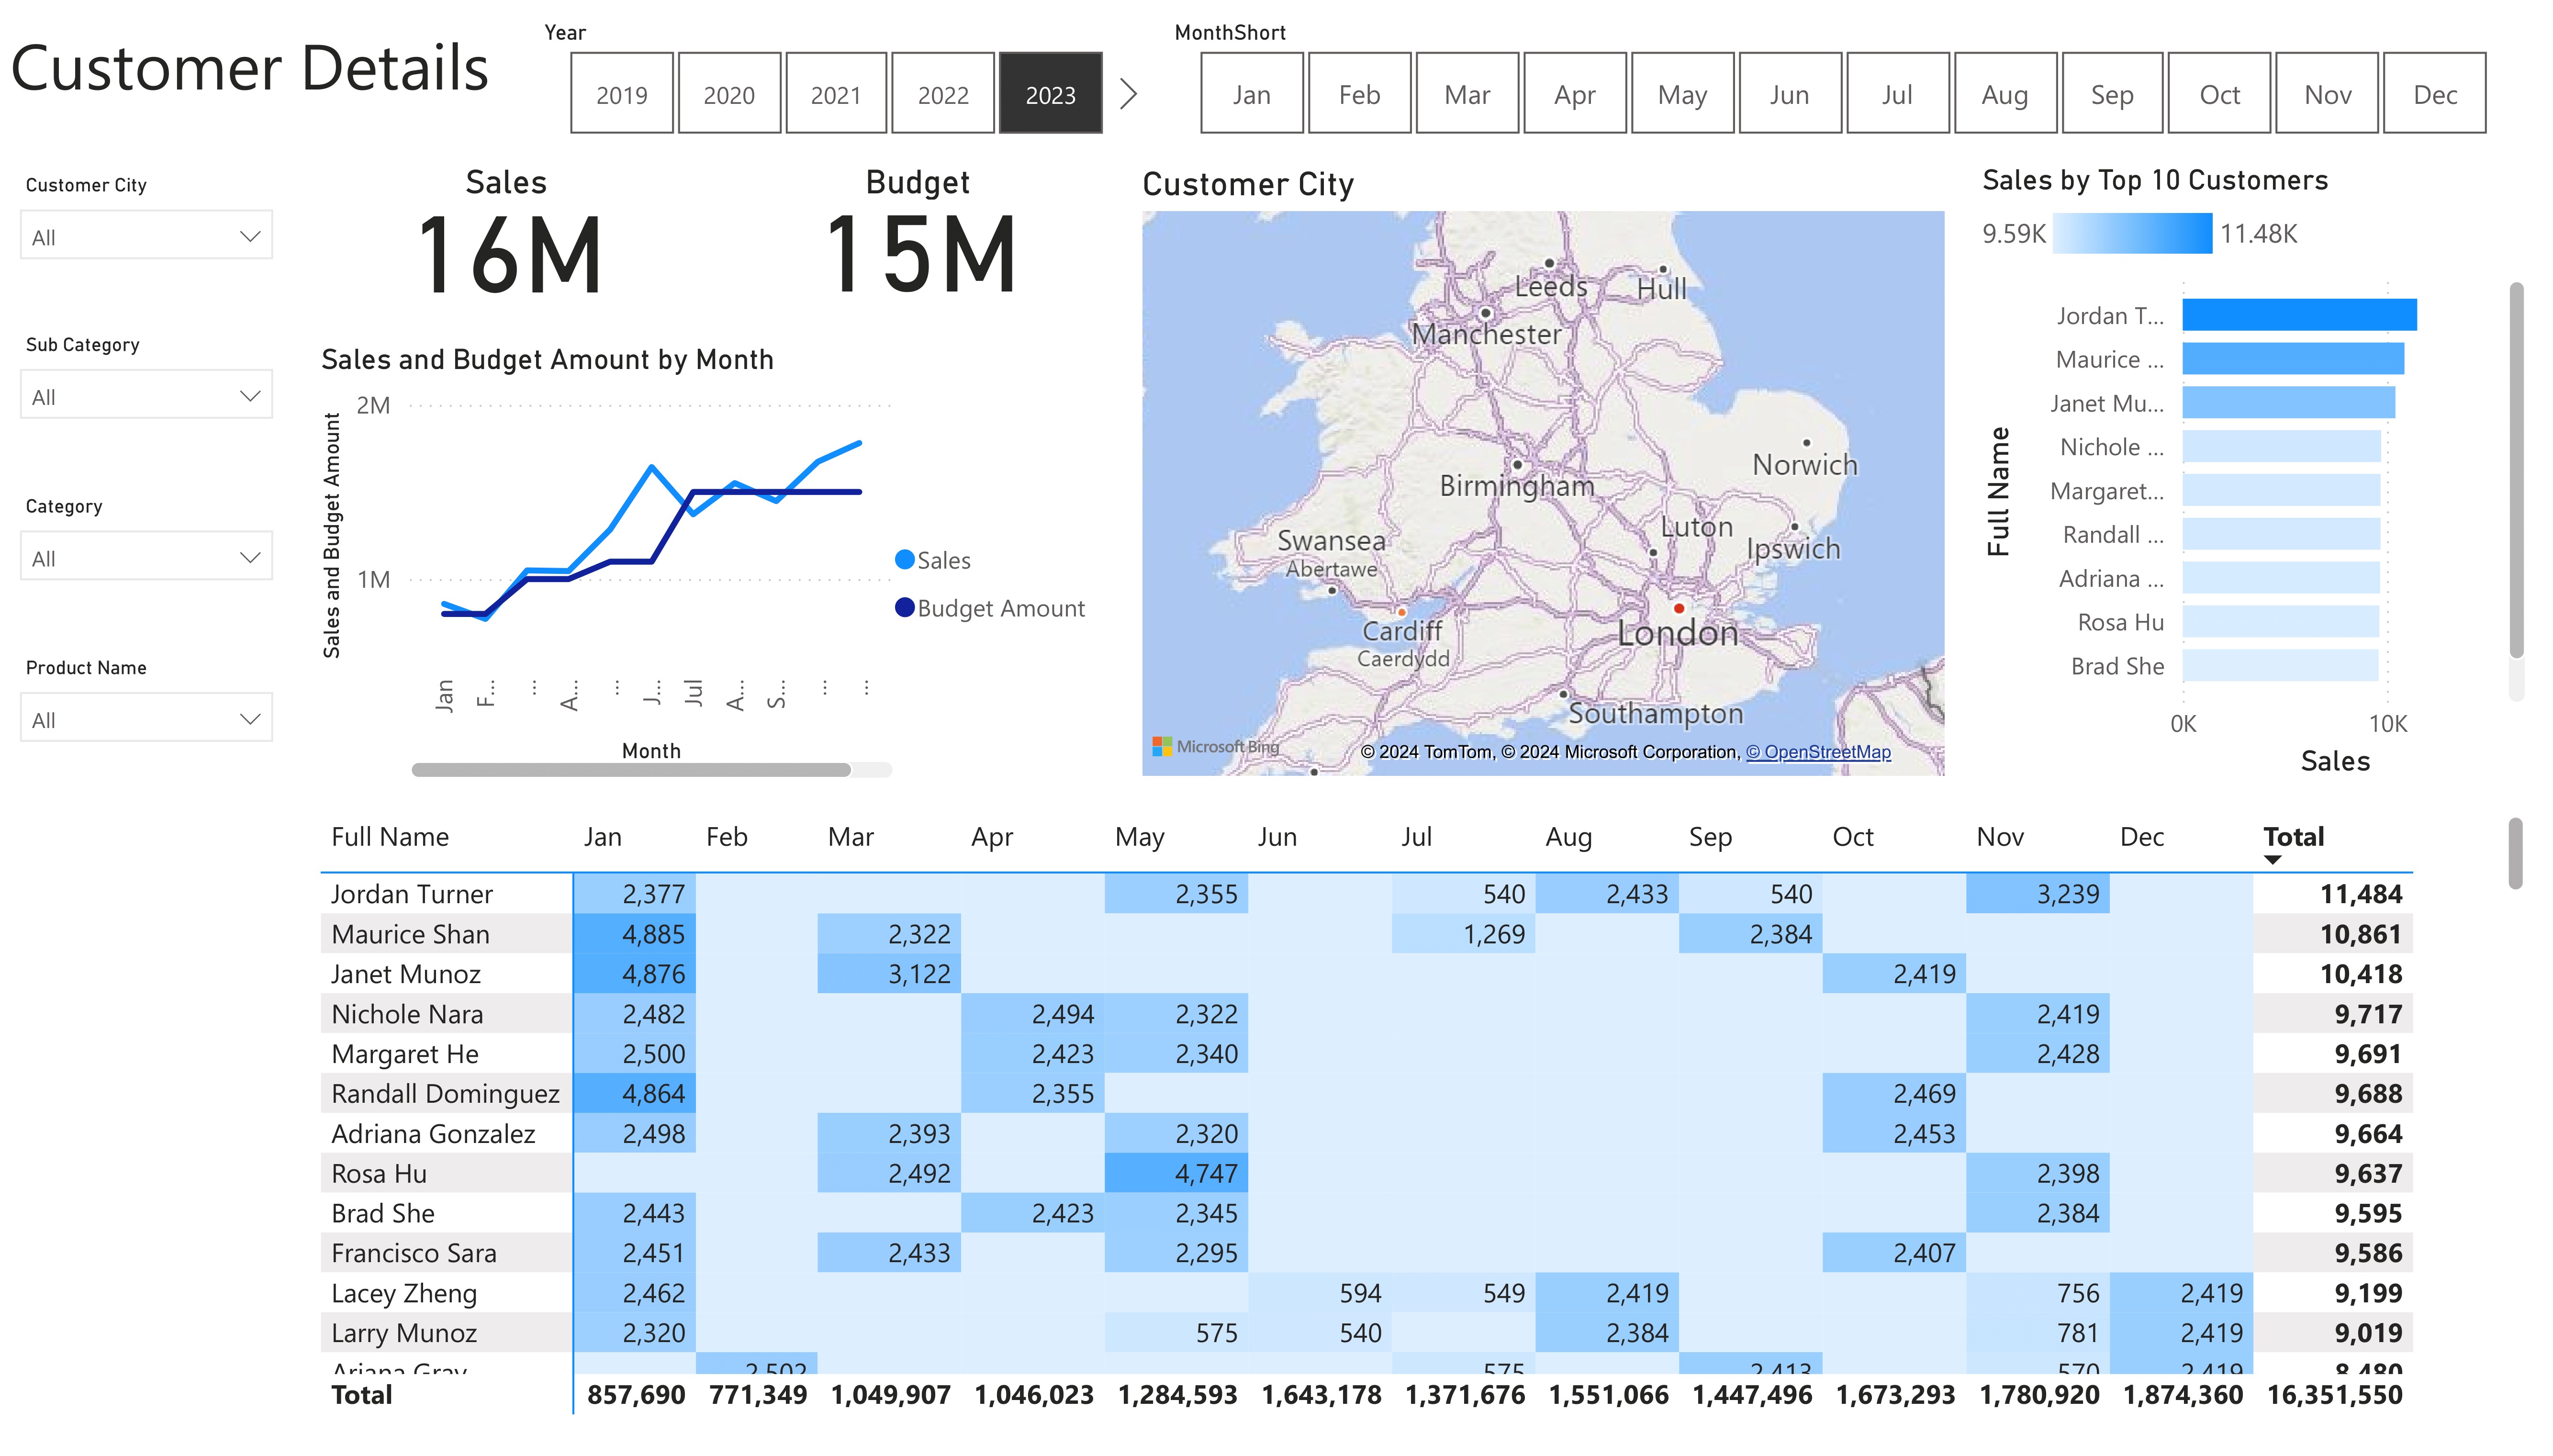

Layout of this report page (visuals, bound fields, positions):
{"tool":"powerbi","page":{"name":"Customer Details","canvas":[1280,720],"ordinal":1},"visuals":[{"type":"textbox","box":[0,0,1271.5,69.2],"z":0},{"type":"slicer","fields":{"Values":["DIM_Customer.Customer City"]},"box":[0,76.8,146.9,71],"z":1000},{"type":"slicer","fields":{"Values":["DIM_Product.Sub Category"]},"box":[0,157.3,146.9,71],"z":2000},{"type":"slicer","fields":{"Values":["DIM_Product.Product Category"]},"box":[0,238,146.9,71],"z":3000},{"type":"slicer","fields":{"Values":["DIM_Product.Product Name"]},"box":[0,319,146.9,70],"z":4000},{"type":"slicer","fields":{"Values":["DIM_Calendar (2).Year"]},"box":[259.7,0,317.1,69.1],"z":5000},{"type":"slicer","fields":{"Values":["DIM_Calendar (2).MonthShort"]},"box":[576.4,0,695.2,69.2],"z":6000},{"type":"lineChart","fields":{"Category":["DIM_Calendar (2).MonthShort"],"Y":["Key Measures.Sales","Key Measures.Budget Amount"]},"box":[156.1,166.7,402.6,222.6],"z":7000},{"type":"barChart","title":"Sales by Top 10 Customers","fields":{"Y":["Key Measures.Sales"],"Category":["DIM_Customer.Full Name"]},"box":[989.2,76.8,282.1,312.2],"z":8000},{"type":"filledMap","fields":{"Category":["DIM_Customer.Customer City"]},"box":[568,76.8,412.4,312.2],"z":10000},{"type":"card","title":"Sales","fields":{"Values":["Key Measures.Sales"]},"box":[156.1,76.3,196,81.6],"z":11000},{"type":"card","title":"Budget","fields":{"Values":["Key Measures.Budget Amount"]},"box":[361.8,76.3,196.8,80.7],"z":12000},{"type":"pivotTable","fields":{"Values":["Key Measures.Sales"],"Rows":["DIM_Customer.Full Name"],"Columns":["DIM_Calendar (2).MonthShort"]},"box":[156.1,399,1115.5,310.3],"z":13000}]}

Visuals, with their boxes in screenshot pixels (x1, y1, x2, y2), scaled from the page's 1280x720 canvas onto the 2553x1456 screenshot:
textbox: <region>0, 0, 2536, 140</region>
slicer - DIM_Customer.Customer City: <region>0, 155, 293, 299</region>
slicer - DIM_Product.Sub Category: <region>0, 318, 293, 462</region>
slicer - DIM_Product.Product Category: <region>0, 482, 293, 625</region>
slicer - DIM_Product.Product Name: <region>0, 645, 293, 787</region>
slicer - DIM_Calendar (2).Year: <region>518, 0, 1151, 140</region>
slicer - DIM_Calendar (2).MonthShort: <region>1150, 0, 2536, 140</region>
lineChart - DIM_Calendar (2).MonthShort x Key Measures.Sales: <region>311, 337, 1114, 787</region>
"Sales by Top 10 Customers" barChart: <region>1973, 155, 2536, 787</region>
filledMap - DIM_Customer.Customer City: <region>1133, 155, 1956, 787</region>
"Sales" card: <region>311, 154, 702, 319</region>
"Budget" card: <region>722, 154, 1114, 317</region>
pivotTable - Key Measures.Sales x DIM_Customer.Full Name: <region>311, 807, 2536, 1434</region>
